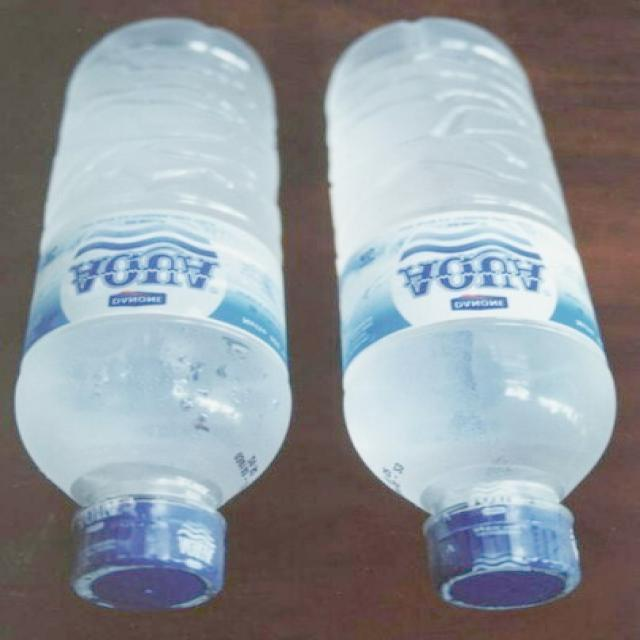cap: (419, 503, 599, 612), (72, 504, 224, 608)
label: (340, 237, 592, 345), (33, 236, 288, 335)
not-crumbled: (316, 11, 636, 618), (10, 1, 296, 626)
